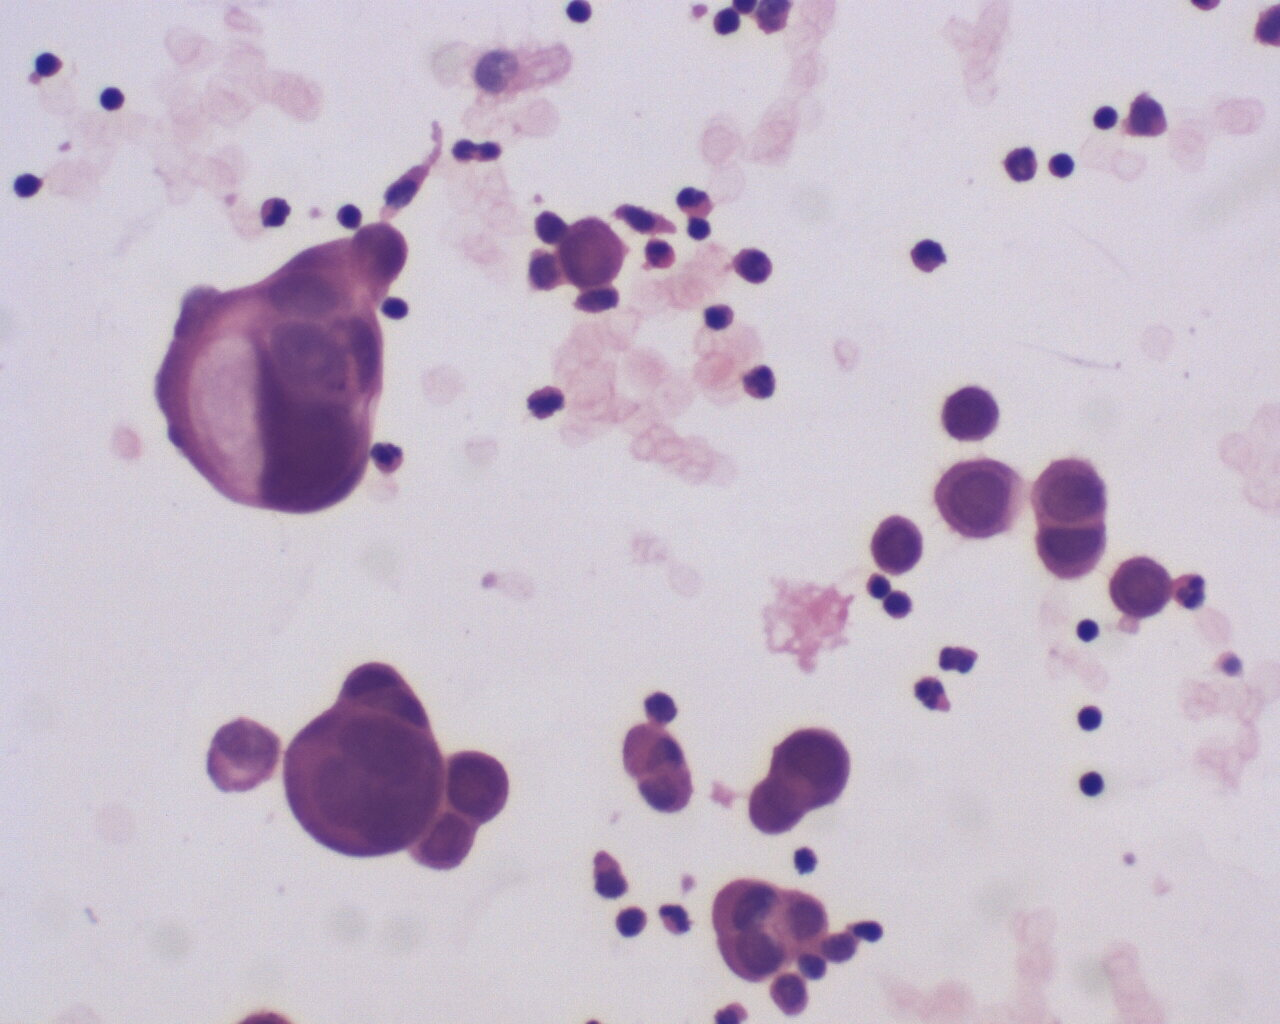ab: (281, 658, 447, 864), (772, 725, 856, 812), (936, 452, 1017, 542), (556, 217, 630, 295), (443, 742, 509, 827), (1106, 554, 1173, 620), (868, 512, 930, 576)
lymph: (1087, 95, 1128, 140), (1044, 147, 1085, 187), (1072, 694, 1107, 740), (1076, 763, 1113, 804), (96, 82, 132, 120), (332, 197, 369, 234)
neutro: (740, 363, 783, 408), (910, 672, 953, 714), (1173, 568, 1208, 614), (369, 435, 404, 478)
